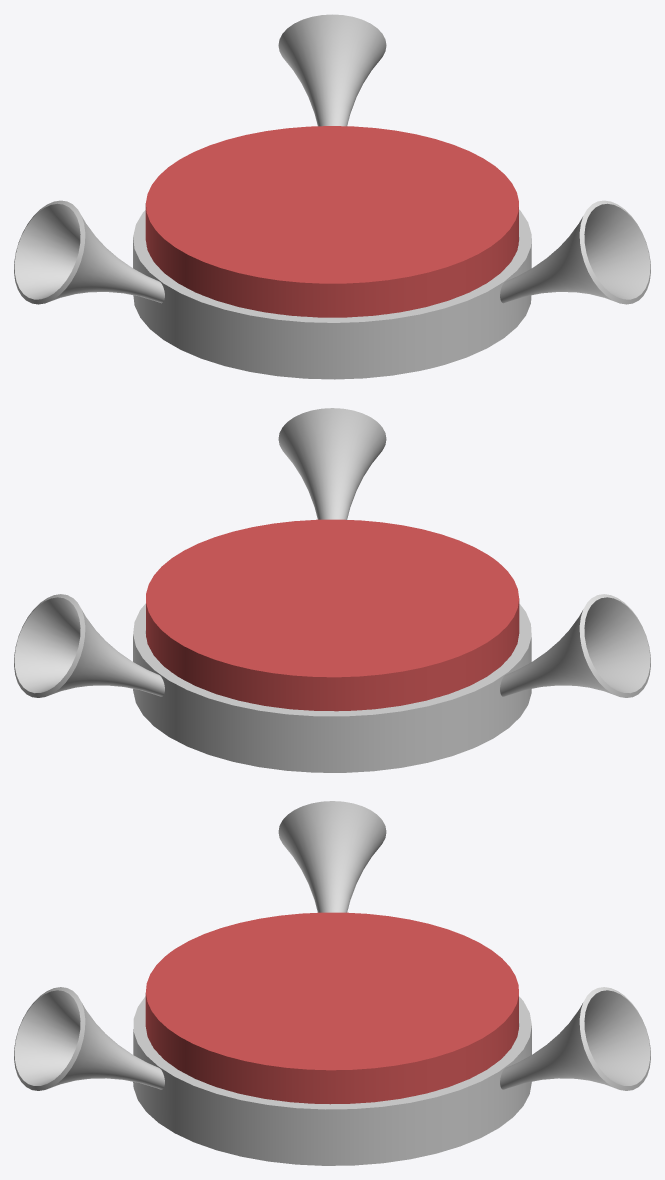
File: airhorn assm.fbx
The picture shows the model from 3 angles, top to bottom: view 1: azimuth 30°, elevation 25°; view 2: azimuth 150°, elevation 25°; view 3: azimuth 270°, elevation 25°; orthographic projection.
Parts seen in each view (by area): view 1: Airhorn button-2, Airhorn base-1; view 2: Airhorn button-2, Airhorn base-1; view 3: Airhorn button-2, Airhorn base-1.
Boxes of the visible parts, bbox=[...] form: Airhorn button-2: bbox=[145, 126, 518, 317]; Airhorn base-1: bbox=[14, 14, 650, 379]; Airhorn button-2: bbox=[146, 519, 519, 711]; Airhorn base-1: bbox=[14, 408, 650, 772]; Airhorn button-2: bbox=[145, 912, 518, 1104]; Airhorn base-1: bbox=[14, 801, 650, 1165].
Bounding box in the file's own units: 28.81 × 8.66 × 32.45.
